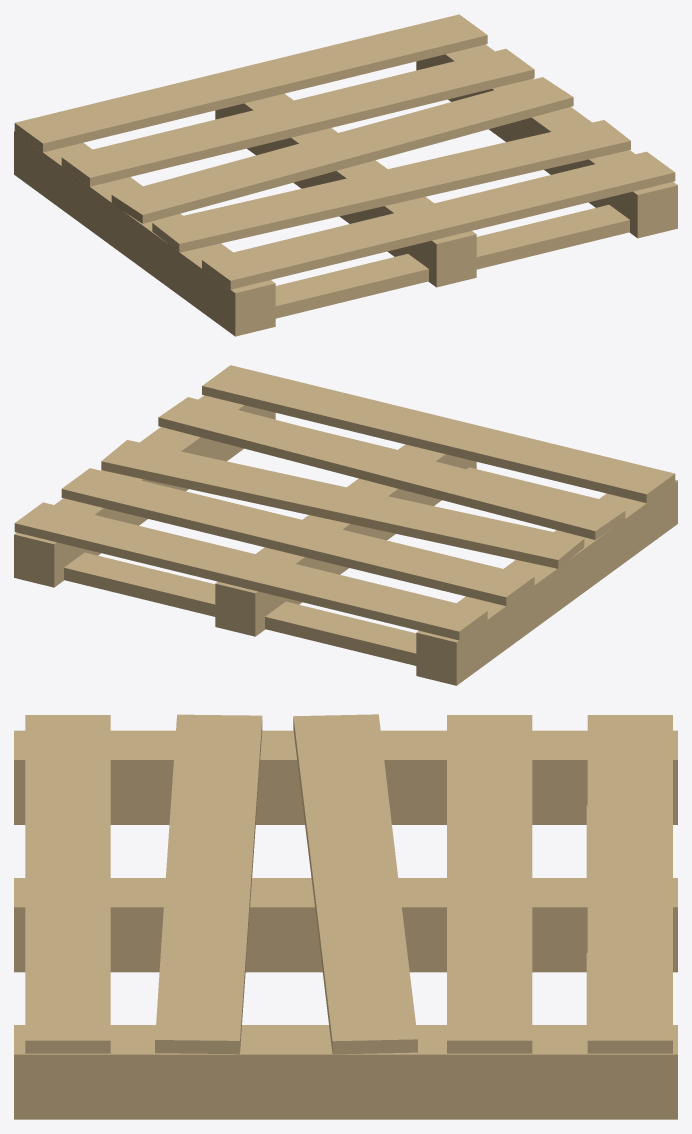
File: Pallet.fbx
The picture shows the model from 3 angles, top to bottom: view 1: azimuth 30°, elevation 25°; view 2: azimuth 150°, elevation 25°; view 3: azimuth 270°, elevation 25°; orthographic projection. The views are drawn at different scales.
Visible parts, largest first — view 1: Pallet.001; view 2: Pallet.001; view 3: Pallet.001.
Boxes of the visible parts, bbox=[...] form: Pallet.001: bbox=[14, 14, 677, 336]; Pallet.001: bbox=[14, 365, 677, 685]; Pallet.001: bbox=[14, 714, 677, 1119].
Bounding box in the file's own units: 1.7 × 0.1932 × 1.46.
